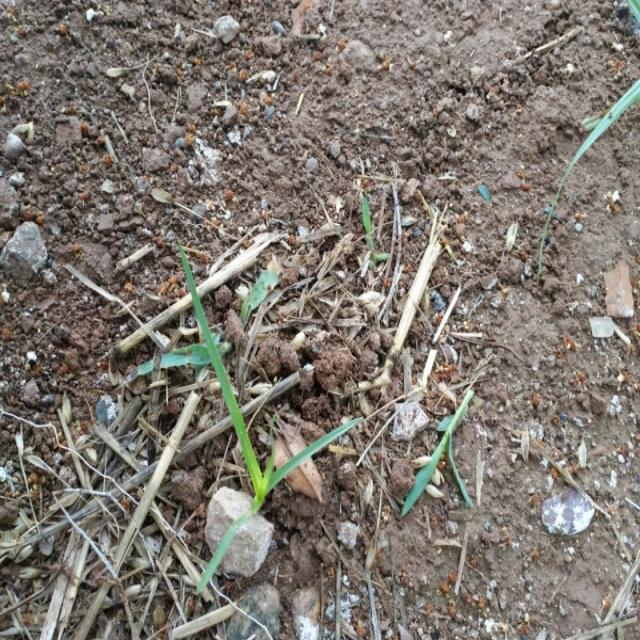sedge: (138, 224, 361, 545)
